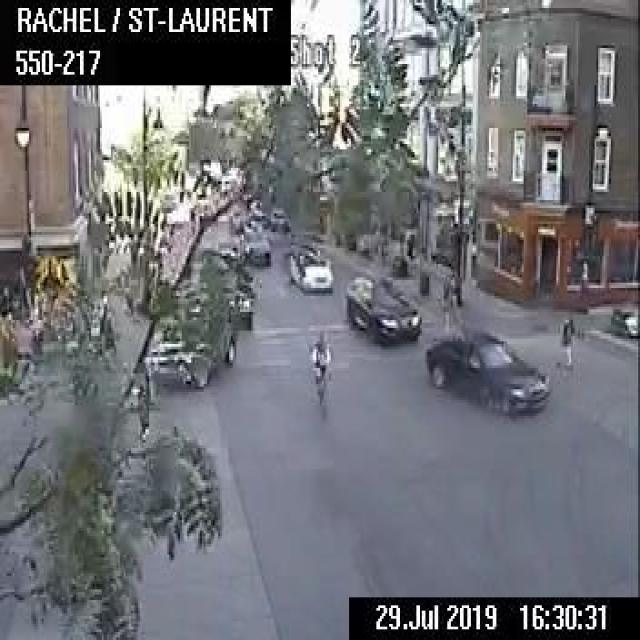cyclist: (307, 323, 333, 400)
pedestrian: (552, 312, 572, 368)
vehicle: (425, 332, 548, 414), (147, 280, 228, 389), (343, 272, 419, 346), (199, 245, 253, 329), (286, 242, 333, 288), (606, 296, 638, 336), (241, 224, 270, 266)
